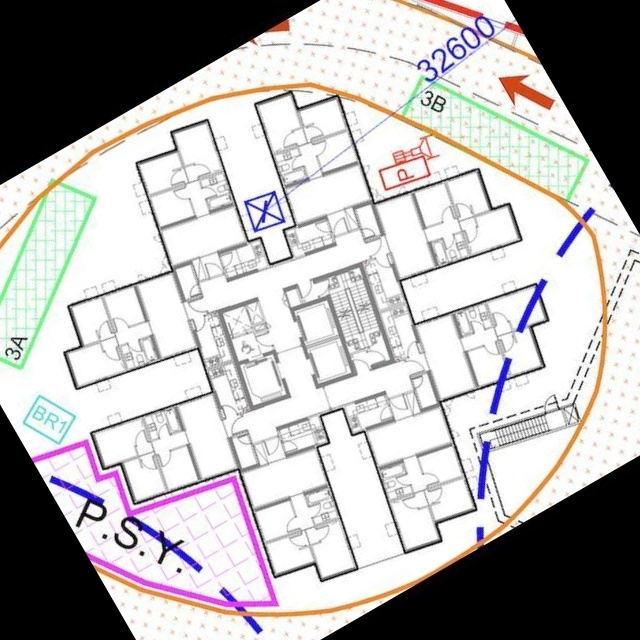tower_crane: (241, 189, 289, 235)
